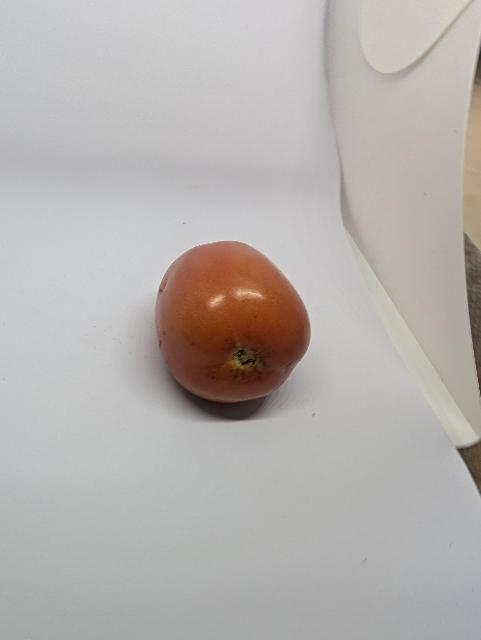red: (126, 220, 349, 433)
